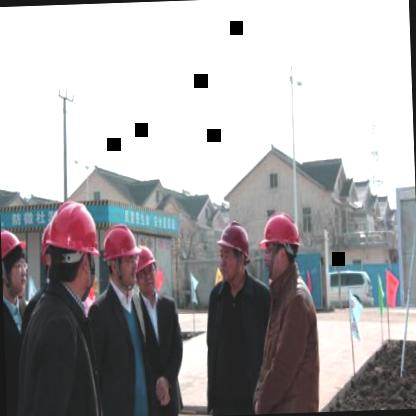helmet: (45, 200, 101, 302), (260, 212, 304, 282), (101, 221, 138, 292), (215, 219, 252, 285), (1, 228, 30, 297), (134, 244, 156, 294)
